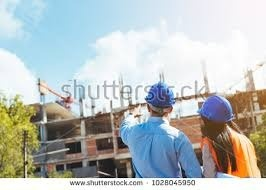helmet: (145, 81, 178, 109), (199, 95, 235, 120)
person with partial safety: (120, 78, 193, 176), (192, 94, 264, 179)
